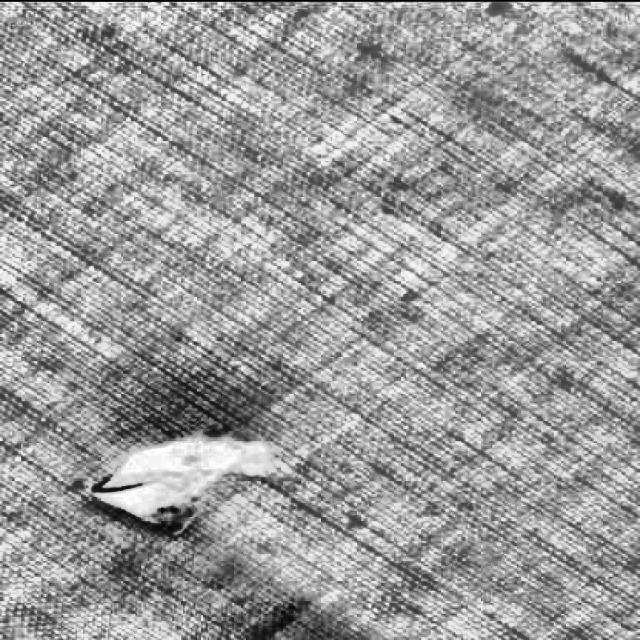hole: (78, 422, 298, 546)
